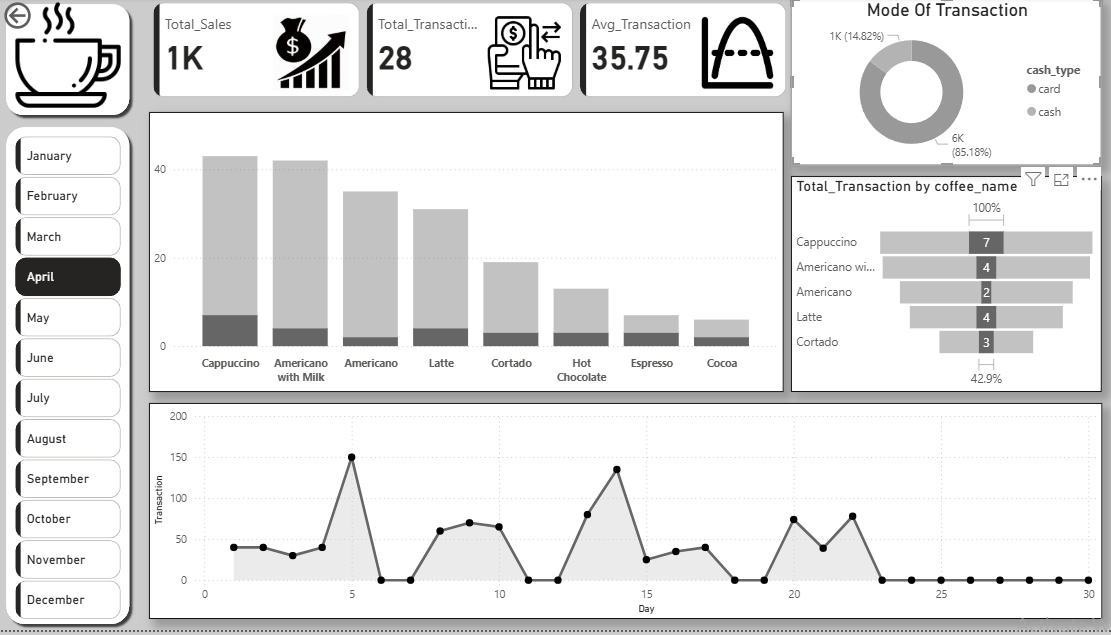

What the dashboard file says about the page in this screenshot:
{"tool":"powerbi","page":{"name":"Page 1","canvas":[1280,720],"ordinal":0},"visuals":[{"type":"shape","box":[0,0,154.3,140.2],"z":0},{"type":"image","box":[12.7,0,130,130],"z":1000},{"type":"shape","box":[0,140.2,154.3,580.1],"z":2000},{"type":"advancedSlicerVisual","fields":{"Values":["index.date.Variation.Date Hierarchy.Month"]},"box":[12.7,153,130,567.3],"z":3000},{"type":"actionButton","box":[0,0,100,40],"z":4000},{"type":"cardVisual","fields":{"Data":["index.Total","index.Total_Transaction","index.Average_Transaction"]},"box":[169.6,0,731.8,118.6],"z":4001},{"type":"columnChart","fields":{"Category":["index.coffee_name"],"Y":["index.Total_Transaction"]},"box":[169.6,130,722.9,318.7],"z":4002},{"type":"donutChart","title":"Mode Of Transaction","fields":{"Category":["index.cash_type"],"Y":["index.Total"]},"box":[901.4,0,354.4,191.2],"z":4003},{"type":"funnel","fields":{"Y":["index.Total_Transaction"],"Category":["index.coffee_name"]},"box":[901.4,202.7,354.4,246.1],"z":4004},{"type":"lineChart","fields":{"Category":["index.date.Variation.Date Hierarchy.Day"],"Y":["index.Total"]},"box":[169.6,461.5,1086.2,246.1],"z":4005}]}

Visuals, with their boxes in screenshot pixels (x1, y1, x2, y2), scaled from the page's 1280x720 canvas onto the 1111x635 screenshot:
shape: x1=0 y1=0 x2=134 y2=124
image: x1=11 y1=0 x2=124 y2=115
shape: x1=0 y1=124 x2=134 y2=634
advancedSlicerVisual - index.date.Variation.Date Hierarchy.Month: x1=11 y1=135 x2=124 y2=634
actionButton: x1=0 y1=0 x2=87 y2=35
cardVisual - index.Total x index.Total_Transaction: x1=147 y1=0 x2=782 y2=105
columnChart - index.coffee_name x index.Total_Transaction: x1=147 y1=115 x2=775 y2=396
"Mode Of Transaction" donutChart: x1=782 y1=0 x2=1090 y2=169
funnel - index.Total_Transaction x index.coffee_name: x1=782 y1=179 x2=1090 y2=396
lineChart - index.date.Variation.Date Hierarchy.Day x index.Total: x1=147 y1=407 x2=1090 y2=624
